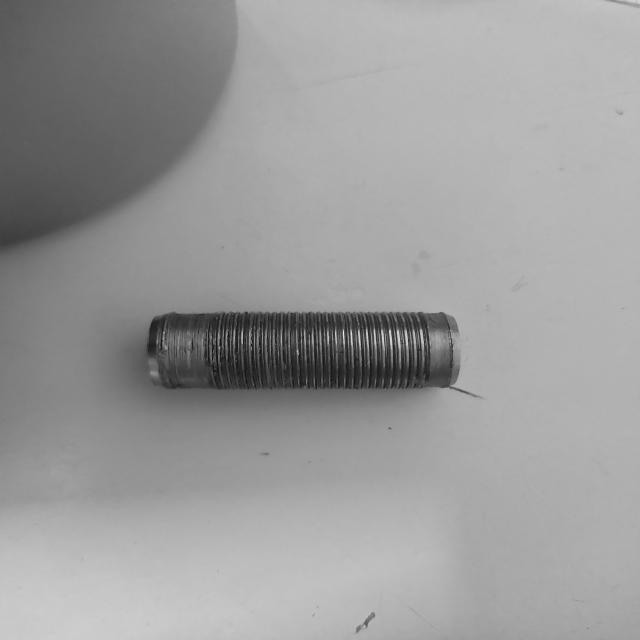Broken: (146, 310, 460, 391)
